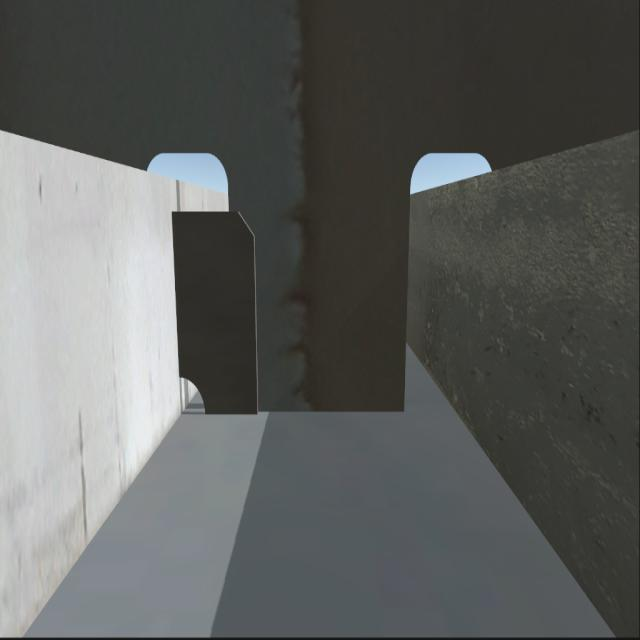fillet_hole: (179, 374, 211, 418)
fillet_yong_jeop_jang: (208, 411, 404, 420)
longi_yong_jeop_jang: (170, 213, 182, 379)
plate_CP03: (173, 208, 258, 408)
